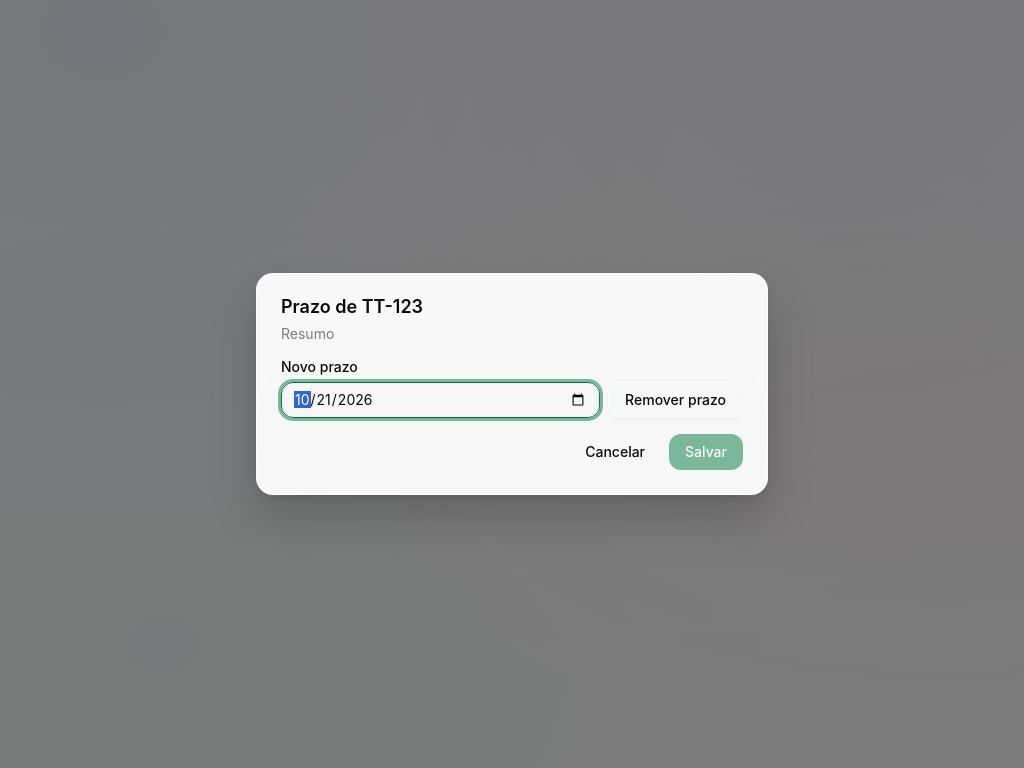
Test: due date dialog › shows Jira's refusal and does not report a change
Type "2026-10-31" into the date field labelled "Novo prazo" at (441, 400), box [281,382,600,418]
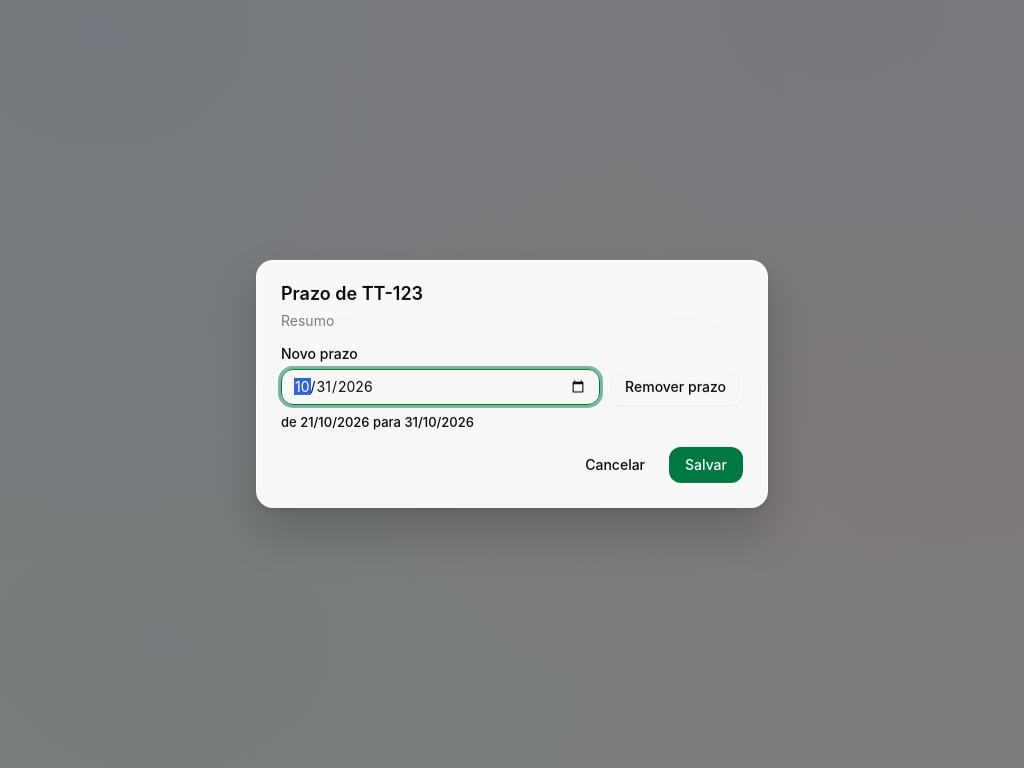
Click the button "Salvar" at (706, 465), box [669,447,743,483]
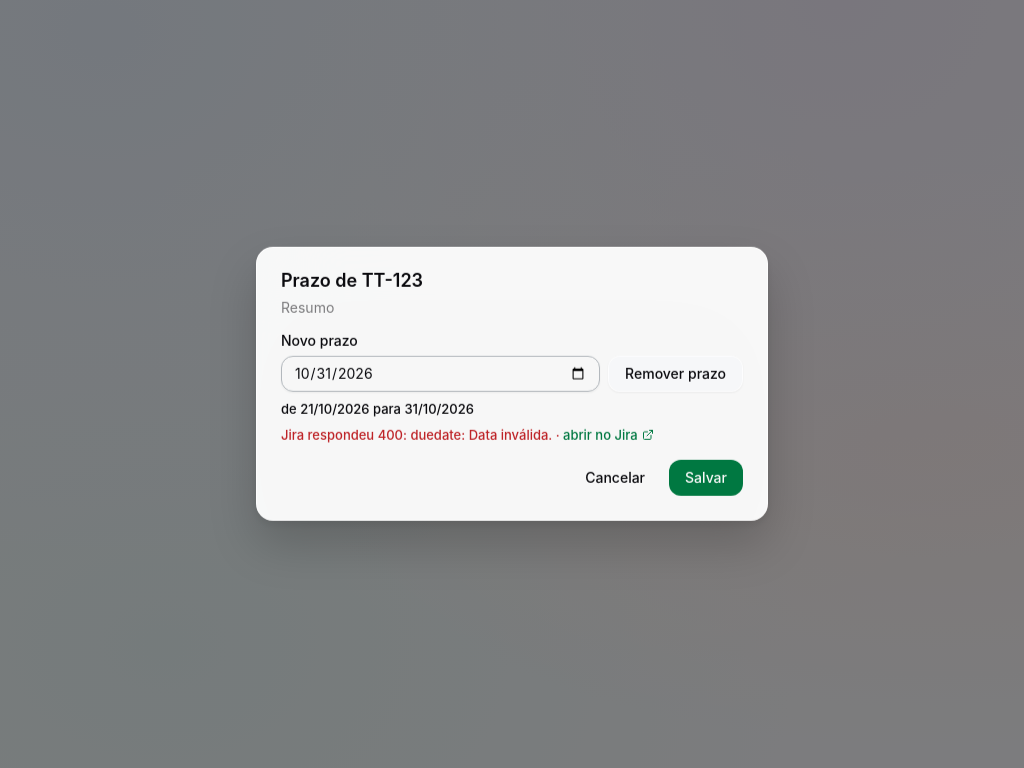
Expected: the message shows "Jira respondeu 400: duedate: Data inválida.", [281,427,552,443]
